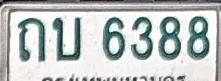3: (130, 16, 153, 59)
6: (102, 16, 125, 60)
8: (186, 14, 210, 59), (158, 16, 181, 59)
A22: (17, 17, 46, 62)
A26: (52, 16, 82, 61)
